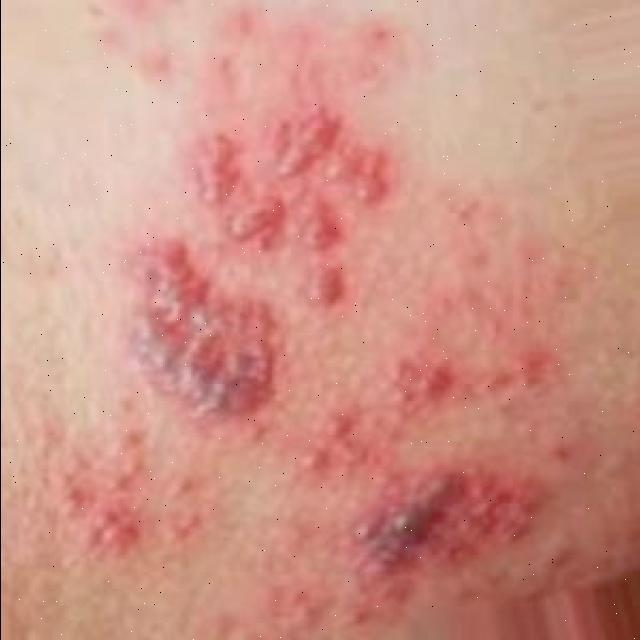Shingles: (314, 341, 542, 606), (179, 103, 392, 307), (129, 233, 282, 416)
